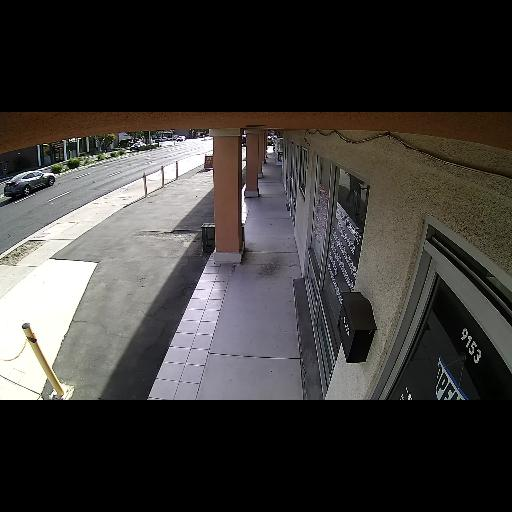car: (3, 169, 56, 199), (129, 141, 147, 153), (176, 135, 186, 142)
